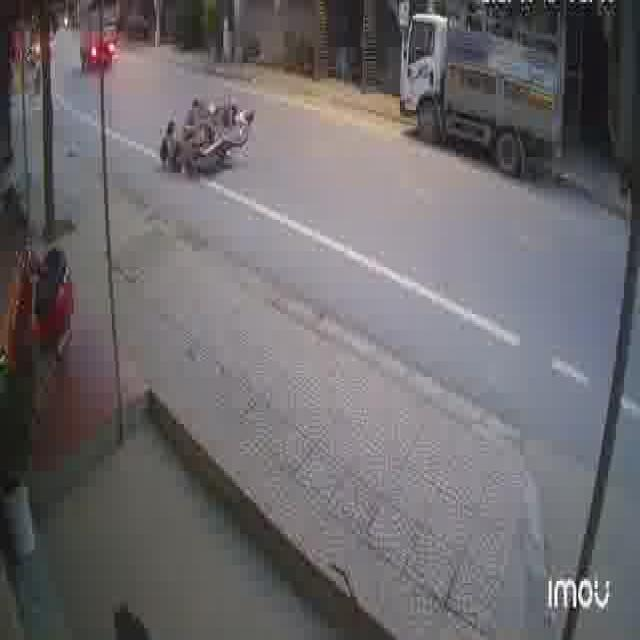multiple_accident: (154, 85, 259, 187)
normal: (387, 4, 586, 201)
